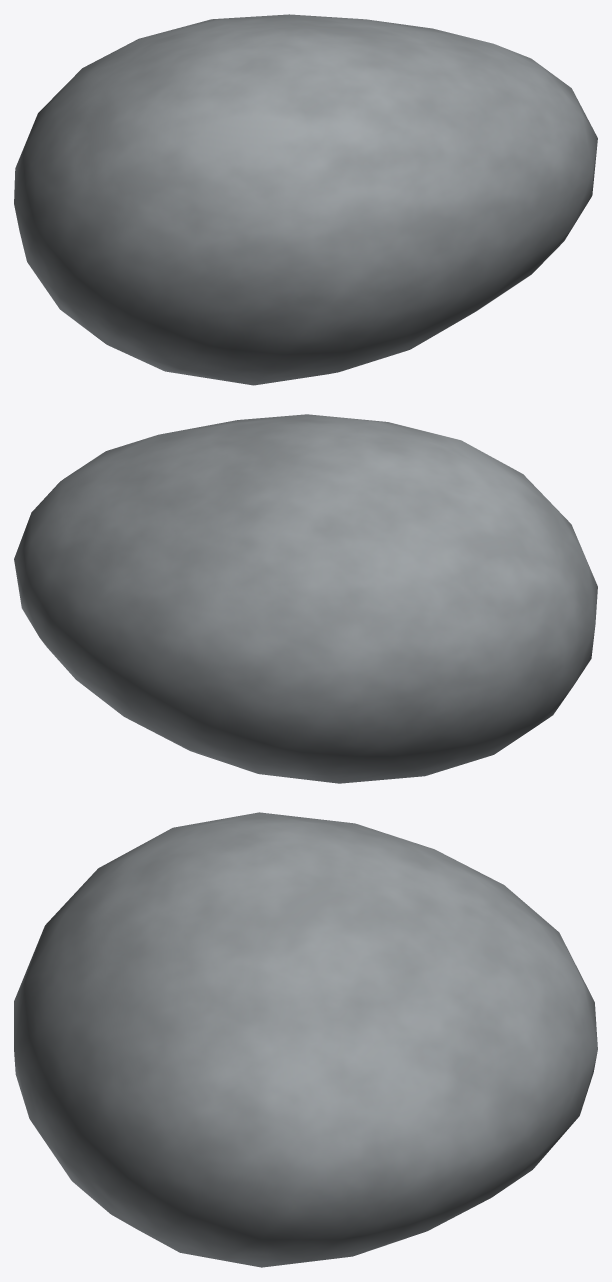
File: rock_a.hi.glb
The picture shows the model from 3 angles, top to bottom: view 1: azimuth 30°, elevation 25°; view 2: azimuth 150°, elevation 25°; view 3: azimuth 270°, elevation 25°; orthographic projection. The views are drawn at different scales.
Parts seen in each view (by area): view 1: rock; view 2: rock; view 3: rock.
Boxes of the visible parts, x1,y1,x2,y2 form: rock: (14, 14, 597, 385); rock: (14, 414, 597, 783); rock: (14, 812, 597, 1267).
Bounding box in the file's own units: 3.52 × 1.91 × 2.9.
Materials: 1 (1 with a texture image).
